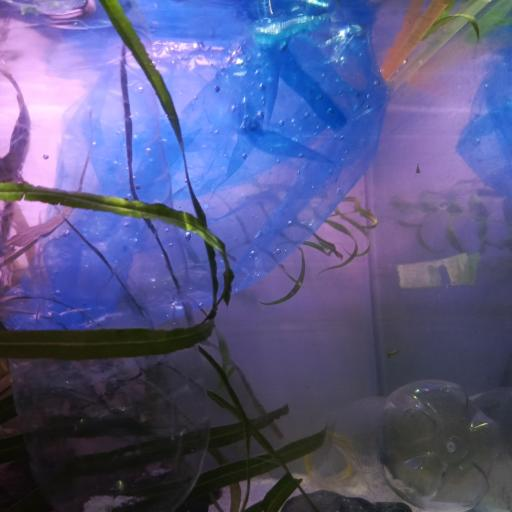plastic_bag: (2, 14, 388, 335)
plastic_bottle: (2, 42, 215, 512), (297, 380, 512, 512)
plastic_straw: (390, 2, 486, 98), (378, 0, 449, 78)
